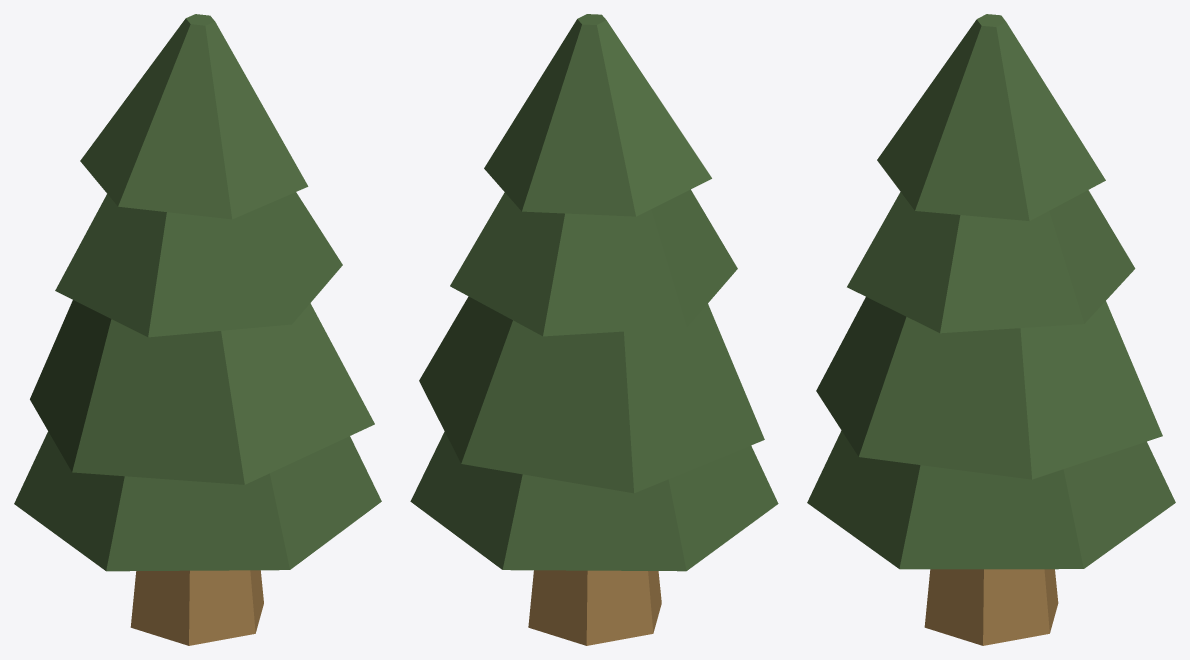
The model's file is tree_team_146.fbx.
3 views of the same model, side by side, from view 1: azimuth 30°, elevation 25°; view 2: azimuth 150°, elevation 25°; view 3: azimuth 270°, elevation 25° (orthographic).
Visible parts, largest first — view 1: Cylinder.002, Cylinder.001, Cylinder.003, Cylinder.004, Cylinder; view 2: Cylinder.002, Cylinder.001, Cylinder.003, Cylinder.004, Cylinder; view 3: Cylinder.002, Cylinder.001, Cylinder.003, Cylinder.004, Cylinder.
Boxes of the visible parts, x1,y1,x2,y2 form: Cylinder.002: (30, 300, 374, 484); Cylinder.001: (14, 431, 381, 571); Cylinder.003: (55, 192, 342, 337); Cylinder.004: (80, 14, 308, 219); Cylinder: (130, 570, 263, 645); Cylinder.002: (419, 296, 764, 493); Cylinder.001: (410, 431, 778, 571); Cylinder.003: (450, 189, 737, 336); Cylinder.004: (484, 14, 711, 216); Cylinder: (528, 570, 661, 645); Cylinder.002: (816, 297, 1162, 479); Cylinder.001: (807, 430, 1175, 569); Cylinder.003: (847, 190, 1135, 333); Cylinder.004: (877, 14, 1105, 220); Cylinder: (924, 569, 1058, 645).
Bounding box in the file's own units: 203 × 382 × 214.
